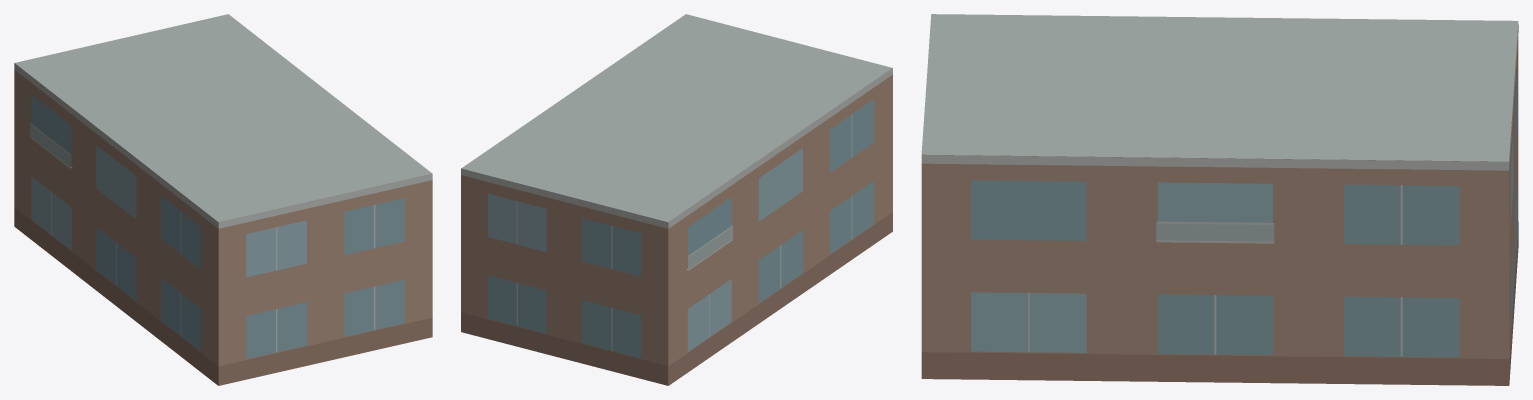
File: survey-upis-32858892.glb
The picture shows the model from 3 angles, left to right: view 1: azimuth 30°, elevation 25°; view 2: azimuth 150°, elevation 25°; view 3: azimuth 270°, elevation 25°; orthographic projection. The views are drawn at different scales.
Parts seen in each view (by area): view 1: survey-upis-32858892.tmp; view 2: survey-upis-32858892.tmp; view 3: survey-upis-32858892.tmp.
Boxes of the visible parts, <box> form: survey-upis-32858892.tmp: <box>14,14,432,385</box>; survey-upis-32858892.tmp: <box>461,14,892,385</box>; survey-upis-32858892.tmp: <box>921,14,1518,385</box>.
Size of the model in its own units: 8.63 by 6.1 by 14.73.
